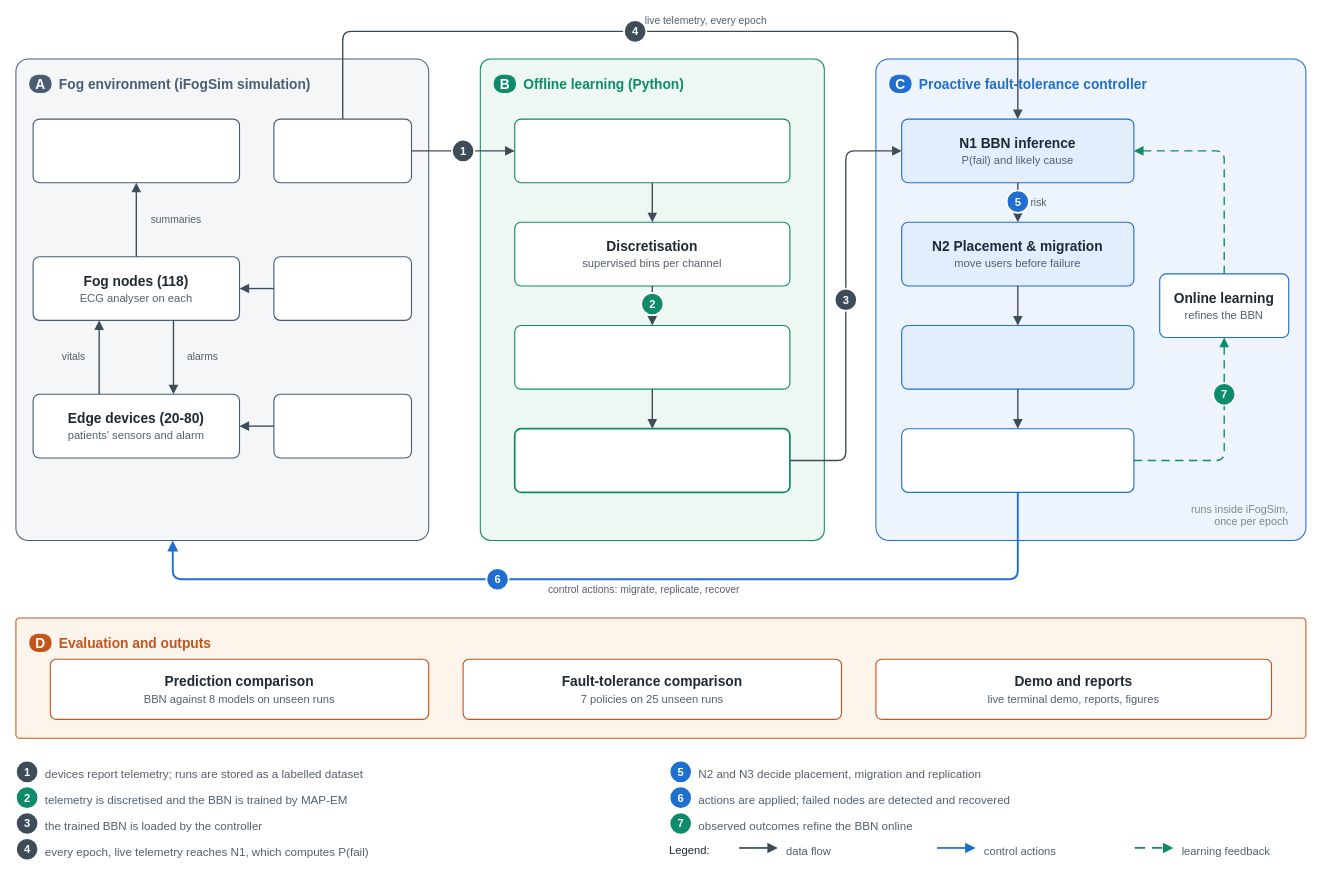
This 1342x875 diagram has some shape labels left out. The shapes that lost their labels are listed below. From the top down, each one's centre as x and y in pixels, then its label:
the point at 136,150: Cloud datacentre archival storage
the point at 342,150: Telemetry agents on every node, 13 channels / epoch
the point at 652,150: Telemetry dataset 31 labelled simulation runs
the point at 342,288: Fault injector wear-out and failures
the point at 652,357: MAP-EM training learns the BBN's probability tables
the point at 1017,357: N3 Selective replication backup sized to the risk
the point at 342,425: Mobility Melbourne CBD traces
the point at 651,460: Trained BBN bbn_trained.json
the point at 1017,460: Actuation & recovery migrate, replicate, recover
